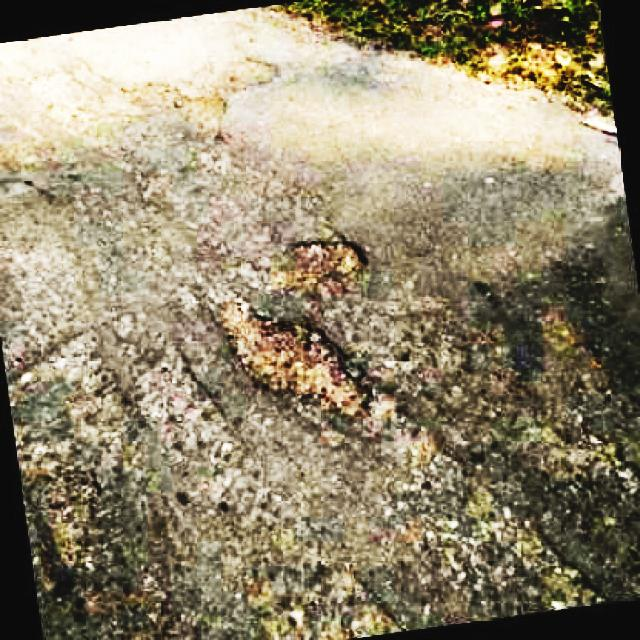pothole: (408, 437, 604, 611), (205, 284, 382, 430), (26, 57, 289, 145), (242, 540, 406, 640), (26, 443, 94, 583), (248, 237, 380, 295)
